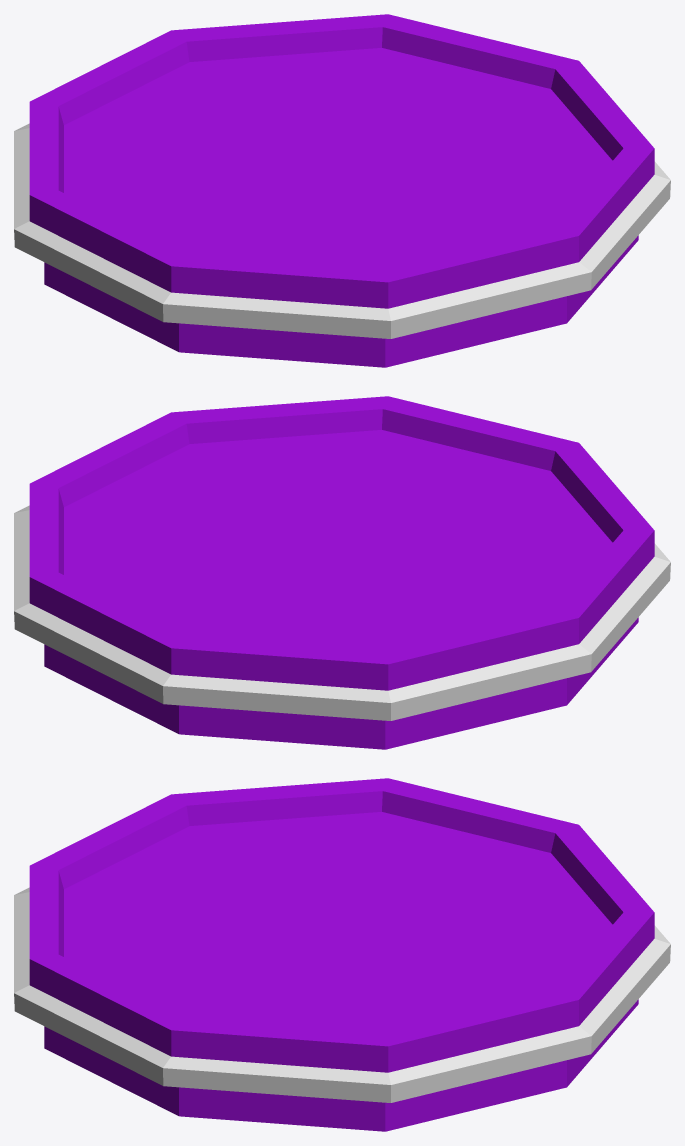
The model's file is platform-purple.fbx.
3 renders of one model, top to bottom at view 1: azimuth 30°, elevation 25°; view 2: azimuth 150°, elevation 25°; view 3: azimuth 270°, elevation 25°, orthographic.
Visible parts, largest first — view 1: Cylinder; view 2: Cylinder; view 3: Cylinder.
Boxes of the visible parts, bbox=[...] form: Cylinder: bbox=[14, 14, 670, 367]; Cylinder: bbox=[14, 396, 670, 749]; Cylinder: bbox=[14, 778, 670, 1131].
Size of the model in its own units: 8993 by 1499 by 8857.
